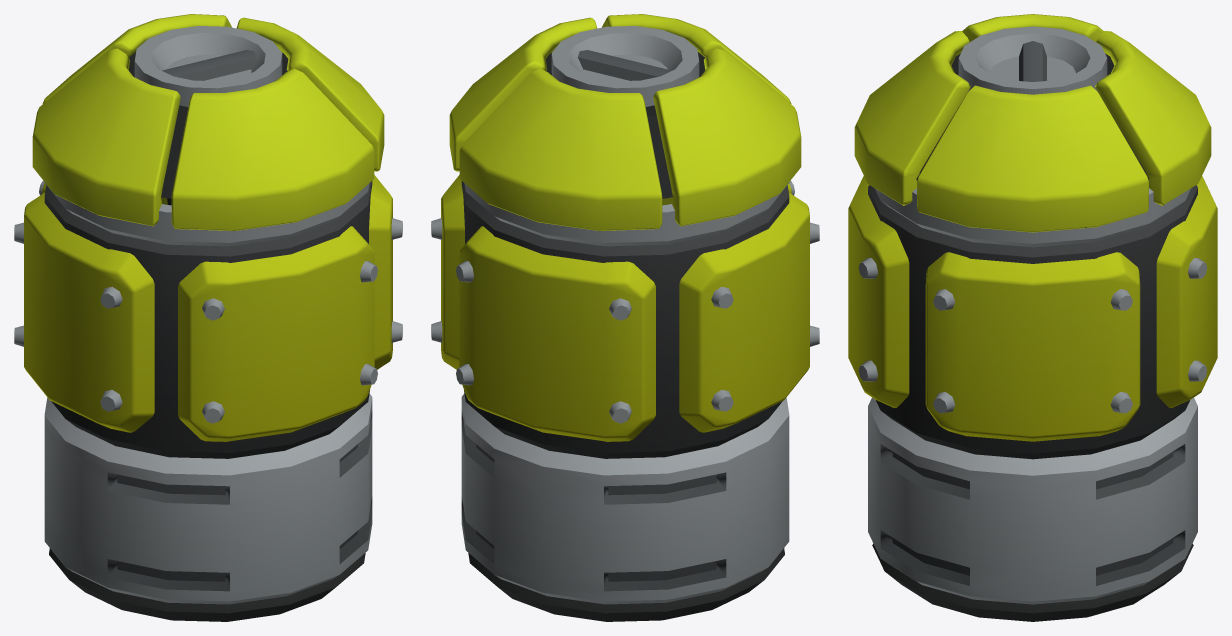
Rendered from Canistre_003.fbx.
3 renders of one model, left to right at view 1: azimuth 30°, elevation 25°; view 2: azimuth 150°, elevation 25°; view 3: azimuth 270°, elevation 25°, orthographic.
Visible parts, largest first — view 1: Canistre_003; view 2: Canistre_003; view 3: Canistre_003.
Boxes of the visible parts, bbox=[...] form: Canistre_003: bbox=[14, 14, 402, 621]; Canistre_003: bbox=[431, 14, 819, 621]; Canistre_003: bbox=[848, 14, 1217, 621].
Bounding box in the file's own units: 32.41 × 32.41 × 49.11.
